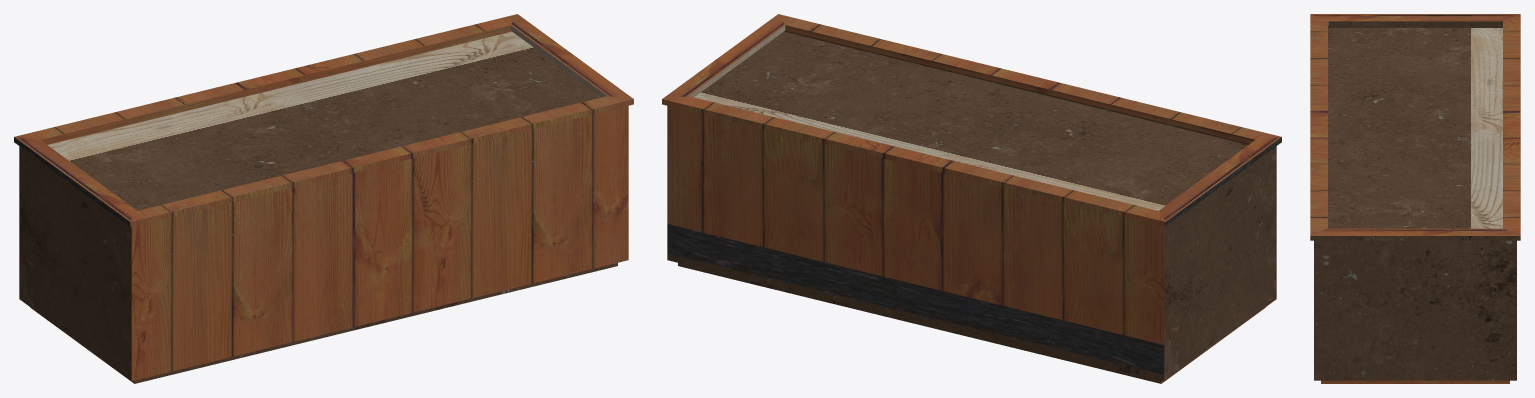
File: planter_S.fbx
3 views of the same model, side by side, from view 1: azimuth 30°, elevation 25°; view 2: azimuth 150°, elevation 25°; view 3: azimuth 270°, elevation 25° (orthographic). The views are drawn at different scales.
Parts seen in each view (by area): view 1: GardenPlanter01_2; view 2: GardenPlanter01_2; view 3: GardenPlanter01_2.
Boxes of the visible parts, x1,y1,x2,y2 form: GardenPlanter01_2: (14,14,633,383); GardenPlanter01_2: (662,14,1281,383); GardenPlanter01_2: (1310,14,1520,383).
Size of the model in its own units: 1.71 by 0.5478 by 0.6847.
